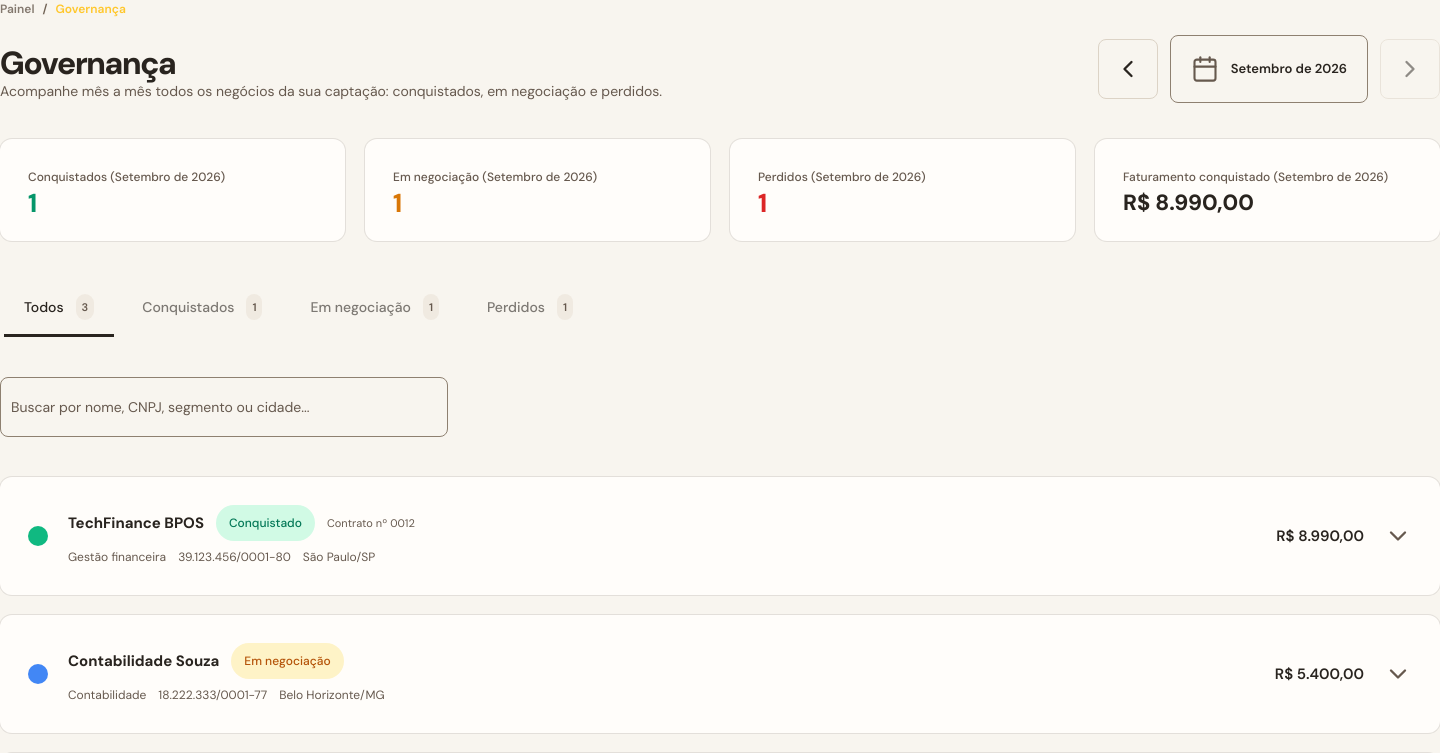
Test case: GovernancaPage › filtra por termo de busca (cidade)
Expected: the text "TechFinance BPOS" is shown, [68,513,204,533]
Step 1. Type "Souza" into the field with test id "governanca-search" → (224, 407), box [0,377,448,437]
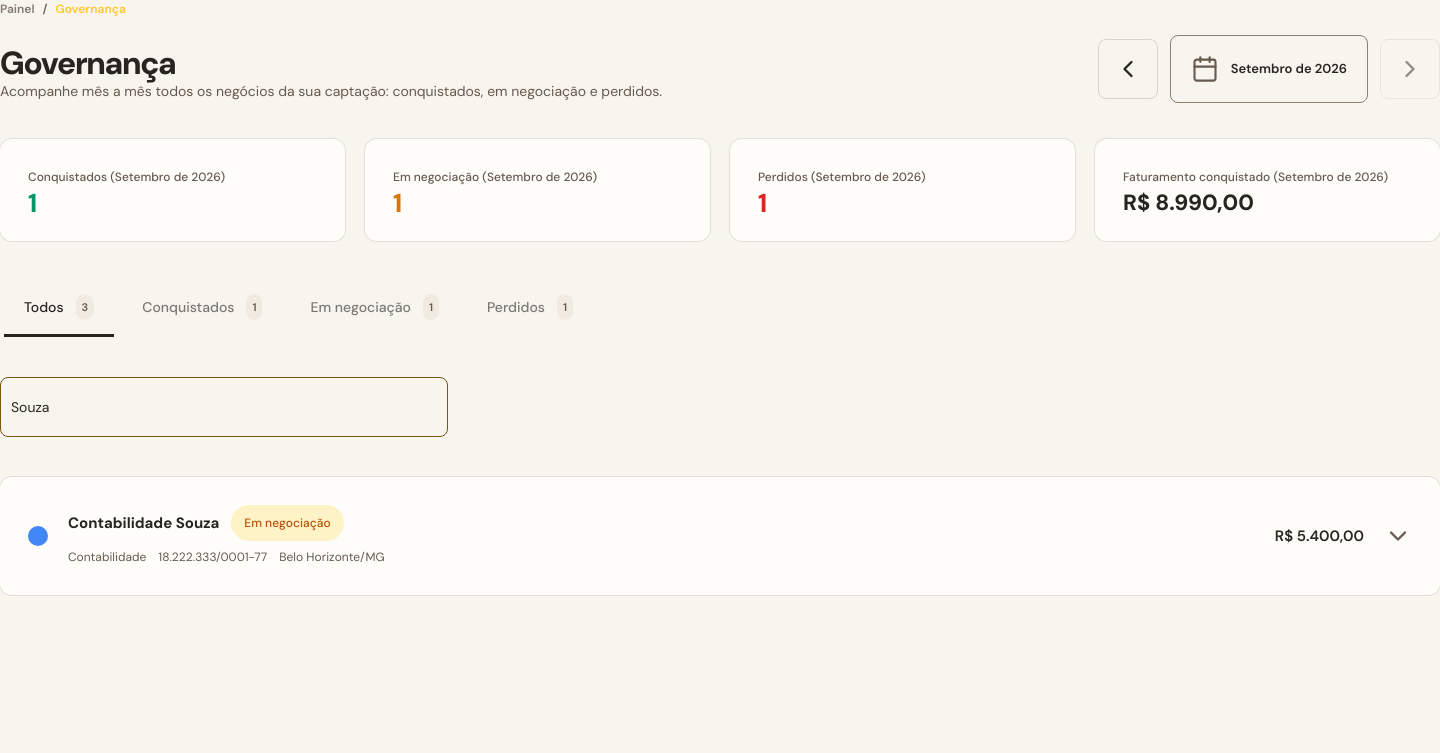
Expected: the text "Contabilidade Souza" is shown, [68,513,219,533]
Expected: the button "TechFinance BPOS" is gone
